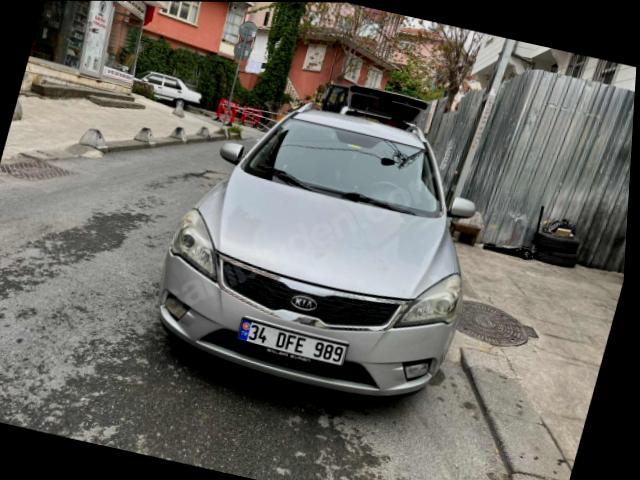plaka: (238, 318, 347, 365)
